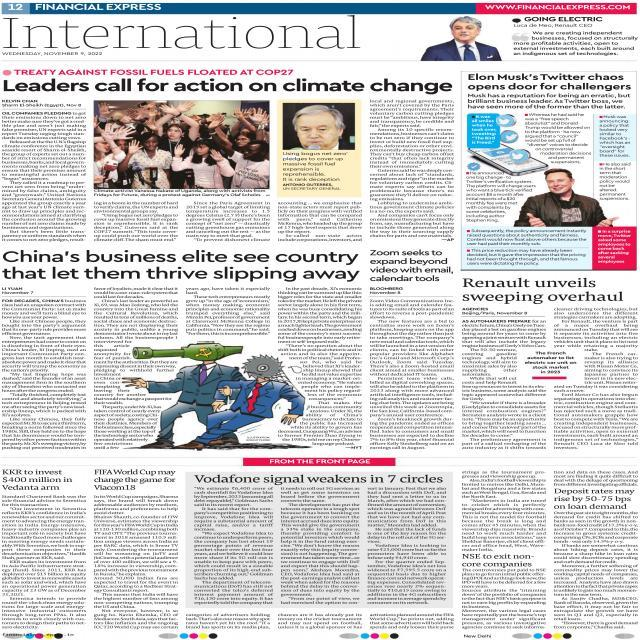Article: (1, 250, 456, 453), (1, 66, 456, 248), (462, 68, 638, 276), (188, 470, 453, 608), (461, 275, 640, 452), (92, 466, 182, 631), (1, 464, 89, 632), (551, 488, 638, 630), (459, 554, 546, 630)
Body: (368, 298, 456, 449), (1, 298, 88, 450), (92, 494, 180, 629), (368, 100, 454, 238), (0, 494, 87, 630), (0, 111, 88, 242), (553, 511, 640, 629), (194, 486, 276, 605), (280, 486, 362, 604), (366, 486, 448, 604), (461, 470, 546, 552), (276, 287, 364, 360), (552, 385, 640, 450), (461, 384, 547, 450), (460, 568, 548, 629), (92, 286, 180, 340), (185, 286, 272, 336), (464, 171, 536, 223), (185, 200, 272, 242), (93, 201, 180, 242), (553, 307, 640, 348), (524, 113, 592, 164), (277, 202, 363, 242), (92, 406, 164, 450), (281, 151, 349, 192), (296, 360, 364, 400), (460, 318, 547, 348), (464, 228, 590, 246), (460, 348, 520, 384), (466, 248, 586, 266), (584, 348, 640, 384), (276, 426, 364, 446), (186, 612, 272, 630), (598, 114, 632, 158), (277, 613, 364, 630), (369, 613, 455, 630), (299, 402, 363, 424), (596, 229, 632, 265), (553, 471, 639, 486), (598, 162, 631, 201), (92, 390, 174, 404), (92, 360, 178, 372), (91, 340, 132, 360), (92, 373, 122, 389)
Date: (0, 50, 104, 56)
Heading: (2, 248, 362, 283), (1, 78, 453, 96), (462, 276, 626, 304), (190, 472, 446, 484), (467, 73, 636, 91), (369, 248, 454, 282), (552, 487, 638, 510), (94, 468, 178, 491), (0, 468, 73, 491), (460, 552, 536, 568)
Highlights: (510, 16, 640, 56), (466, 93, 633, 109), (523, 351, 578, 374), (471, 115, 496, 145)
Image: (94, 100, 270, 189), (179, 340, 275, 450), (421, 16, 500, 60), (538, 168, 596, 226), (284, 103, 354, 150)
Name: (1, 13, 360, 50), (34, 2, 164, 12)
